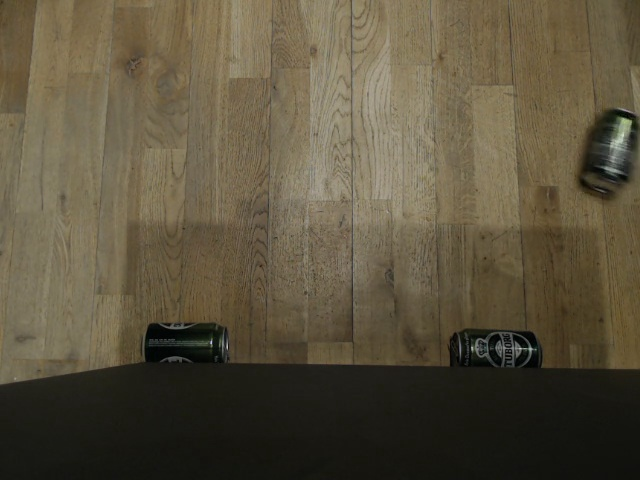beer: (581, 105, 639, 199), (447, 327, 544, 369), (142, 319, 231, 364)
